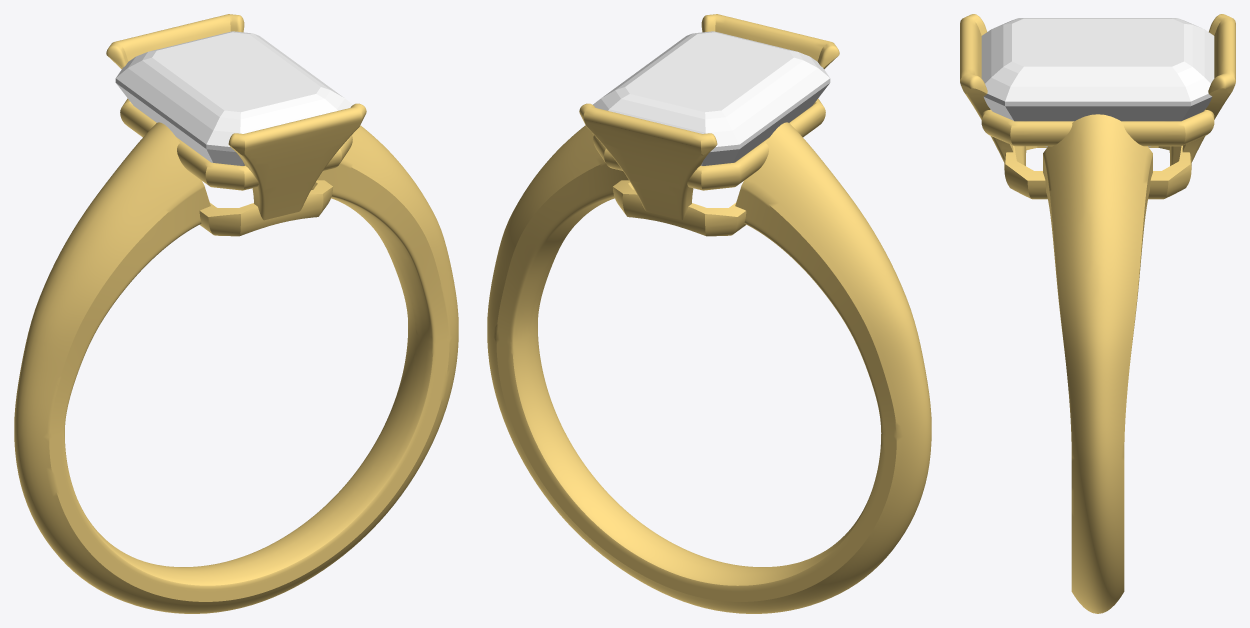
Rendered from Paulasolitaire_webgi.glb.
The picture shows the model from 3 angles, left to right: view 1: azimuth 30°, elevation 25°; view 2: azimuth 150°, elevation 25°; view 3: azimuth 270°, elevation 25°; orthographic projection. The views are drawn at different scales.
Visible parts, largest first — view 1: Paula_YG_solitaire_for_3d_model, Paula_sapph_for_3d_model; view 2: Paula_YG_solitaire_for_3d_model, Paula_sapph_for_3d_model; view 3: Paula_YG_solitaire_for_3d_model, Paula_sapph_for_3d_model.
Boxes of the visible parts, x1=… form: Paula_YG_solitaire_for_3d_model: x1=14, y1=14, x2=458, y2=613; Paula_sapph_for_3d_model: x1=115, y1=31, x2=352, y2=165; Paula_YG_solitaire_for_3d_model: x1=487, y1=14, x2=931, y2=613; Paula_sapph_for_3d_model: x1=593, y1=31, x2=830, y2=165; Paula_YG_solitaire_for_3d_model: x1=960, y1=14, x2=1235, y2=613; Paula_sapph_for_3d_model: x1=981, y1=18, x2=1214, y2=147.
Size of the model in its own units: 2.47 by 2.86 by 1.31.
